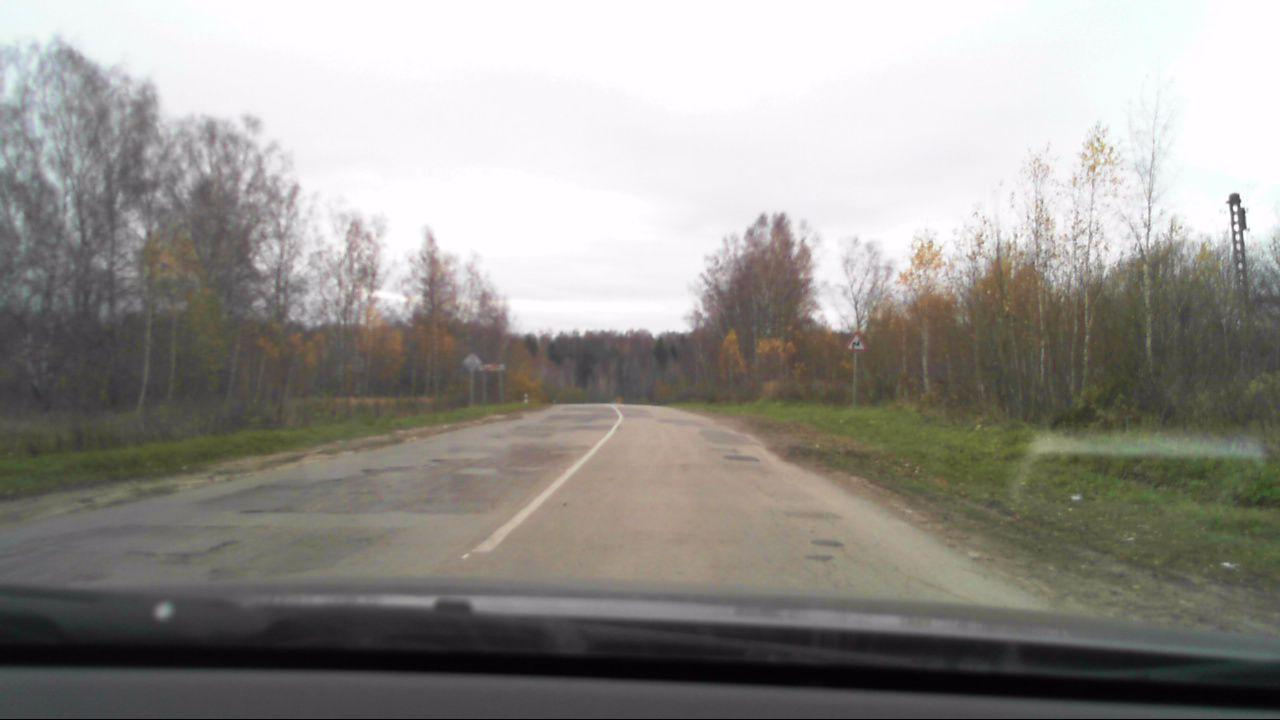1_12_1: (846, 334, 867, 350)
